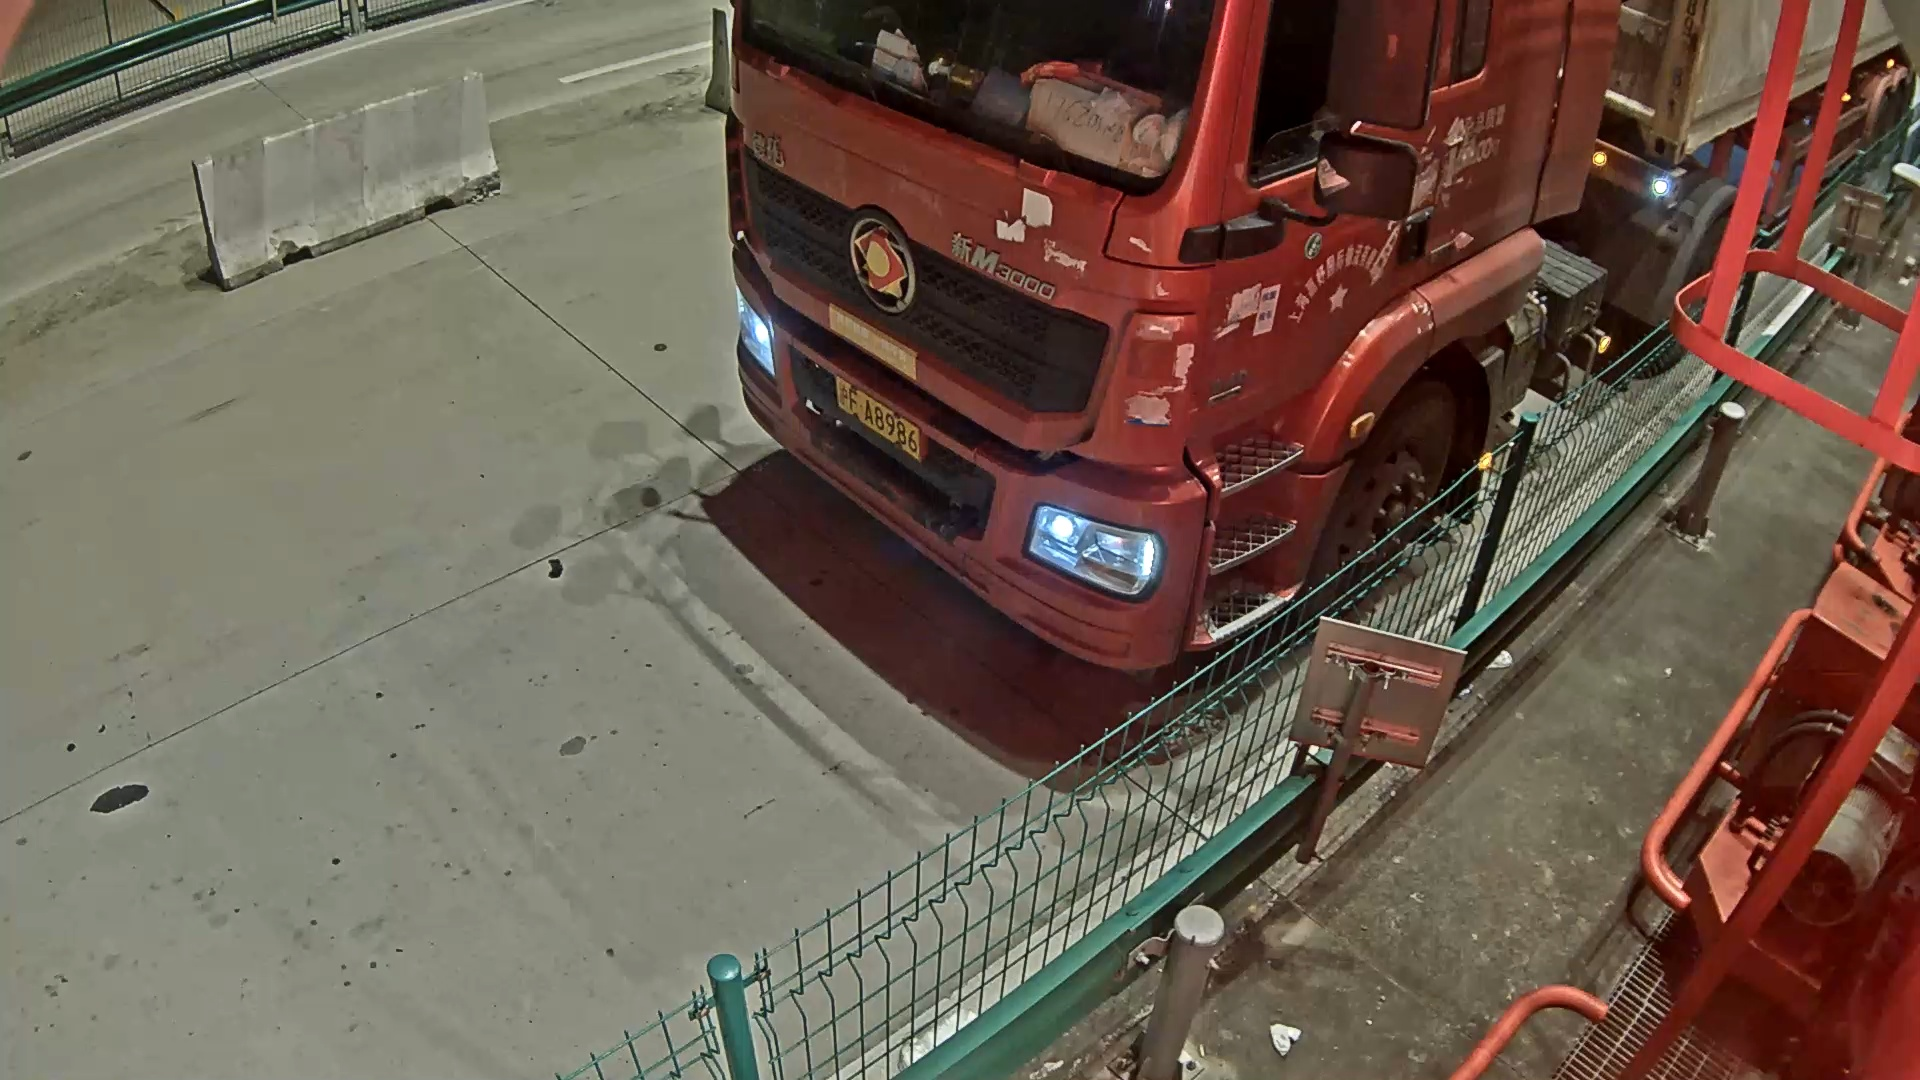head: (674, 5, 1417, 667)
plate: (826, 371, 935, 473)
